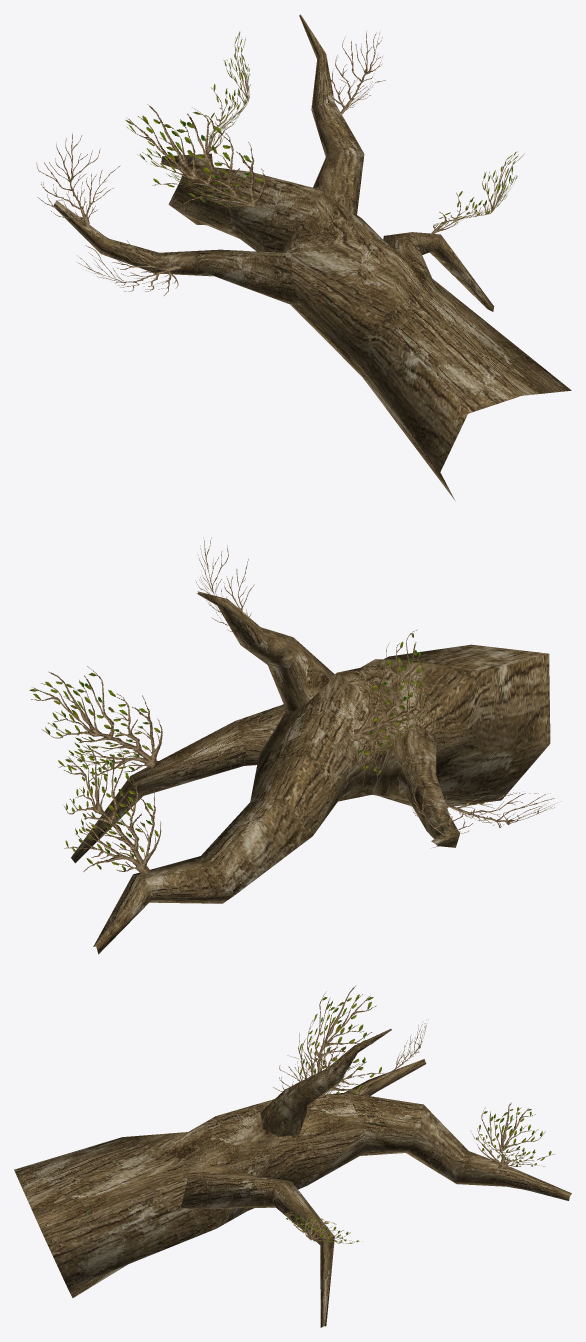
Rendered from w_cd_brhwood03_01.glb.
3 views of the same model, one above another, from view 1: azimuth 30°, elevation 25°; view 2: azimuth 150°, elevation 25°; view 3: azimuth 270°, elevation 25° (orthographic). The views are drawn at different scales.
Parts seen in each view (by area): view 1: w_cd_brhWood03_01, w_cd_brhWood03_02, w_cd_brhWood03_03; view 2: w_cd_brhWood03_01, w_cd_brhWood03_02, w_cd_brhWood03_03; view 3: w_cd_brhWood03_01, w_cd_brhWood03_02, w_cd_brhWood03_03.
Boxes of the visible parts, x1=… form: w_cd_brhWood03_01: x1=53, y1=14, x2=571, y2=500; w_cd_brhWood03_02: x1=125, y1=31, x2=524, y2=234; w_cd_brhWood03_03: x1=36, y1=31, x2=385, y2=295; w_cd_brhWood03_01: x1=71, y1=591, x2=550, y2=954; w_cd_brhWood03_02: x1=29, y1=629, x2=427, y2=874; w_cd_brhWood03_03: x1=195, y1=537, x2=554, y2=835; w_cd_brhWood03_01: x1=14, y1=1029, x2=571, y2=1327; w_cd_brhWood03_02: x1=284, y1=985, x2=554, y2=1243; w_cd_brhWood03_03: x1=273, y1=1021, x2=426, y2=1094.
Size of the model in its own units: 28.21 by 20.1 by 36.27.
Materials: 3 (3 with a texture image).
